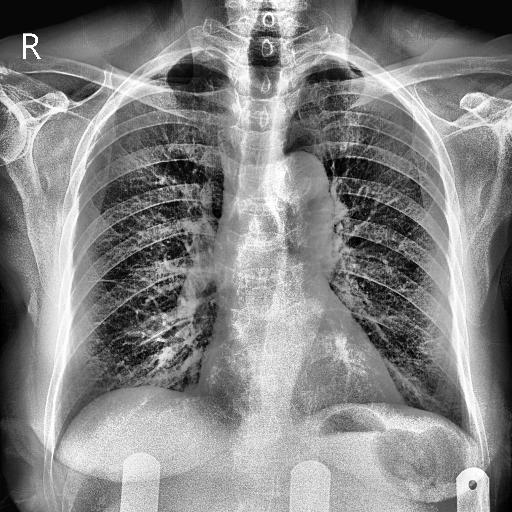0- Aortic enlargement: (269, 151, 334, 224), (260, 153, 328, 209), (263, 149, 326, 202)
